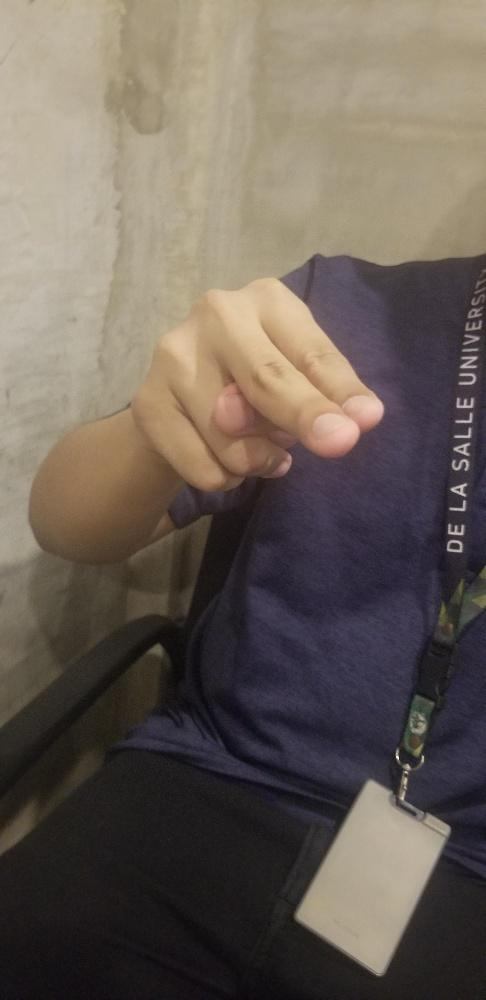n: (133, 275, 385, 492)
